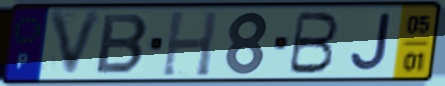8: (223, 10, 271, 77)
B: (285, 10, 342, 76), (93, 12, 151, 76)
H: (159, 9, 221, 78)
J: (347, 11, 393, 74)
V: (46, 8, 107, 82)
